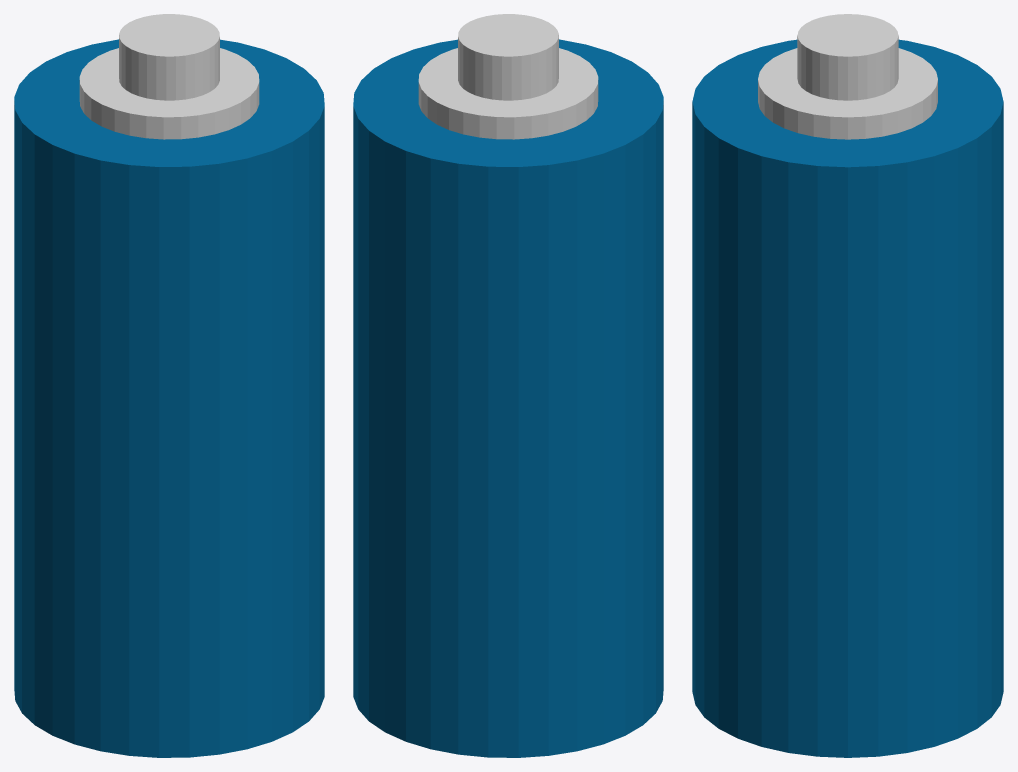
Rendered from Batery.fbx.
3 renders of one model, left to right at view 1: azimuth 30°, elevation 25°; view 2: azimuth 150°, elevation 25°; view 3: azimuth 270°, elevation 25°, orthographic.
Visible parts, largest first — view 1: Batery; view 2: Batery; view 3: Batery.
Part boxes in pixels (x1,y1,x2,y2): Batery: [14, 14, 324, 757]; Batery: [353, 14, 663, 757]; Batery: [692, 14, 1003, 757].
Size of the model in its own units: 86.58 by 204 by 86.58.
